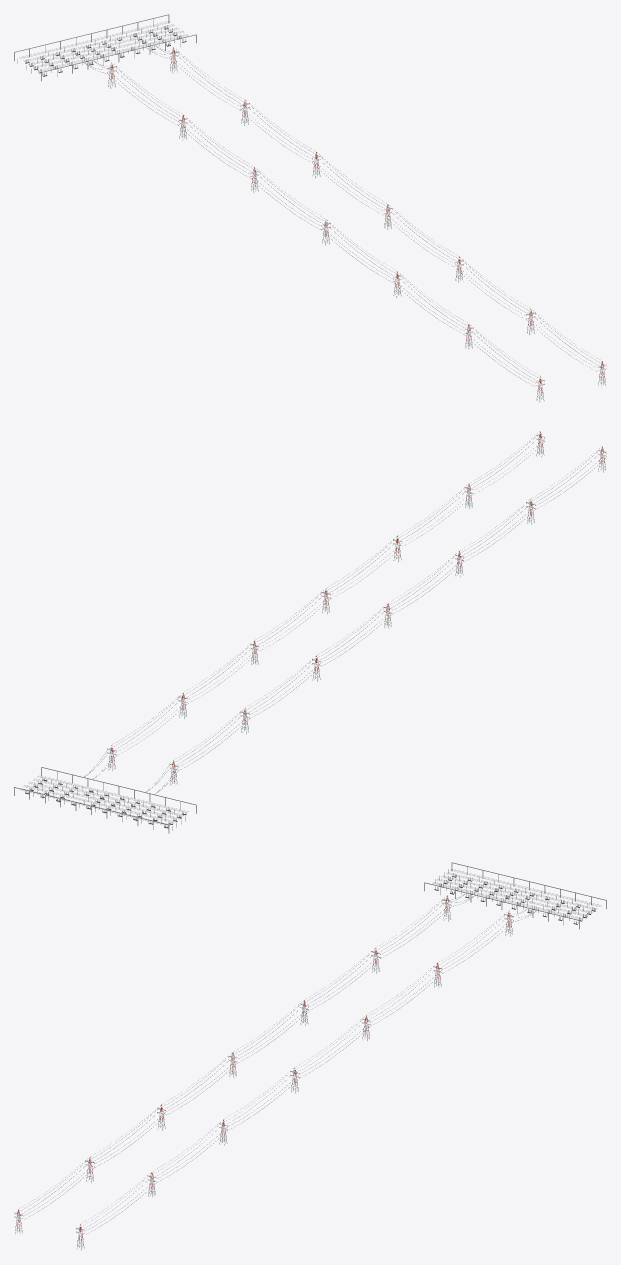
The model's file is electrical-infrastructure.glb.
The picture shows the model from 3 angles, top to bottom: view 1: azimuth 30°, elevation 25°; view 2: azimuth 150°, elevation 25°; view 3: azimuth 330°, elevation 25°; orthographic projection.
Visible parts, largest first — view 1: electrical__steel, electrical__steel_dark, electrical__pylon_red; view 2: electrical__steel, electrical__steel_dark, electrical__pylon_red; view 3: electrical__steel, electrical__steel_dark, electrical__pylon_red.
Boxes of the visible parts, x1,y1,x2,y2 form: electrical__steel: [14, 14, 605, 402]; electrical__steel_dark: [25, 28, 599, 386]; electrical__pylon_red: [108, 47, 605, 392]; electrical__steel: [14, 446, 605, 833]; electrical__steel_dark: [25, 436, 605, 828]; electrical__pylon_red: [108, 431, 605, 776]; electrical__steel: [15, 862, 606, 1250]; electrical__steel_dark: [21, 876, 595, 1234]; electrical__pylon_red: [15, 895, 512, 1240].
Size of the model in its own units: 301 by 46.13 by 1617.
